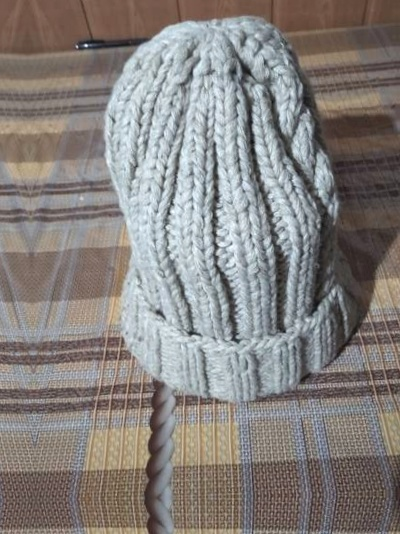Hat: (75, 2, 380, 406)
